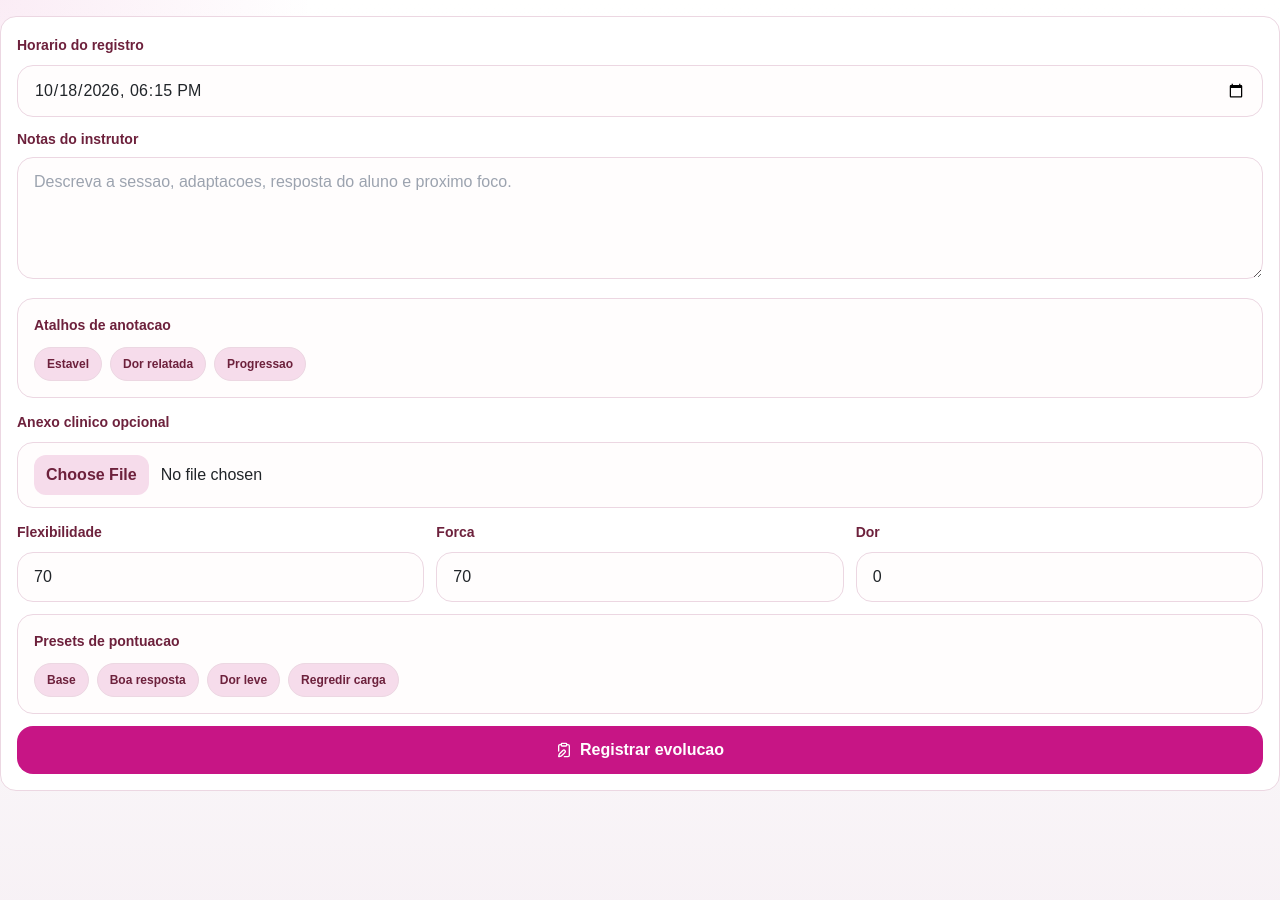
Test: ProgressEntryForm › ignora toque duplo enquanto o envio principal esta em andamento
This screenshot has width=1280, height=900.
Replace the text in the text box with placeholder "Descreva a sessao, adaptacoes, resposta do aluno e proximo foco." with "Sessao com envio lento." at (640, 218), box x1=17 y1=157 x2=1263 y2=279
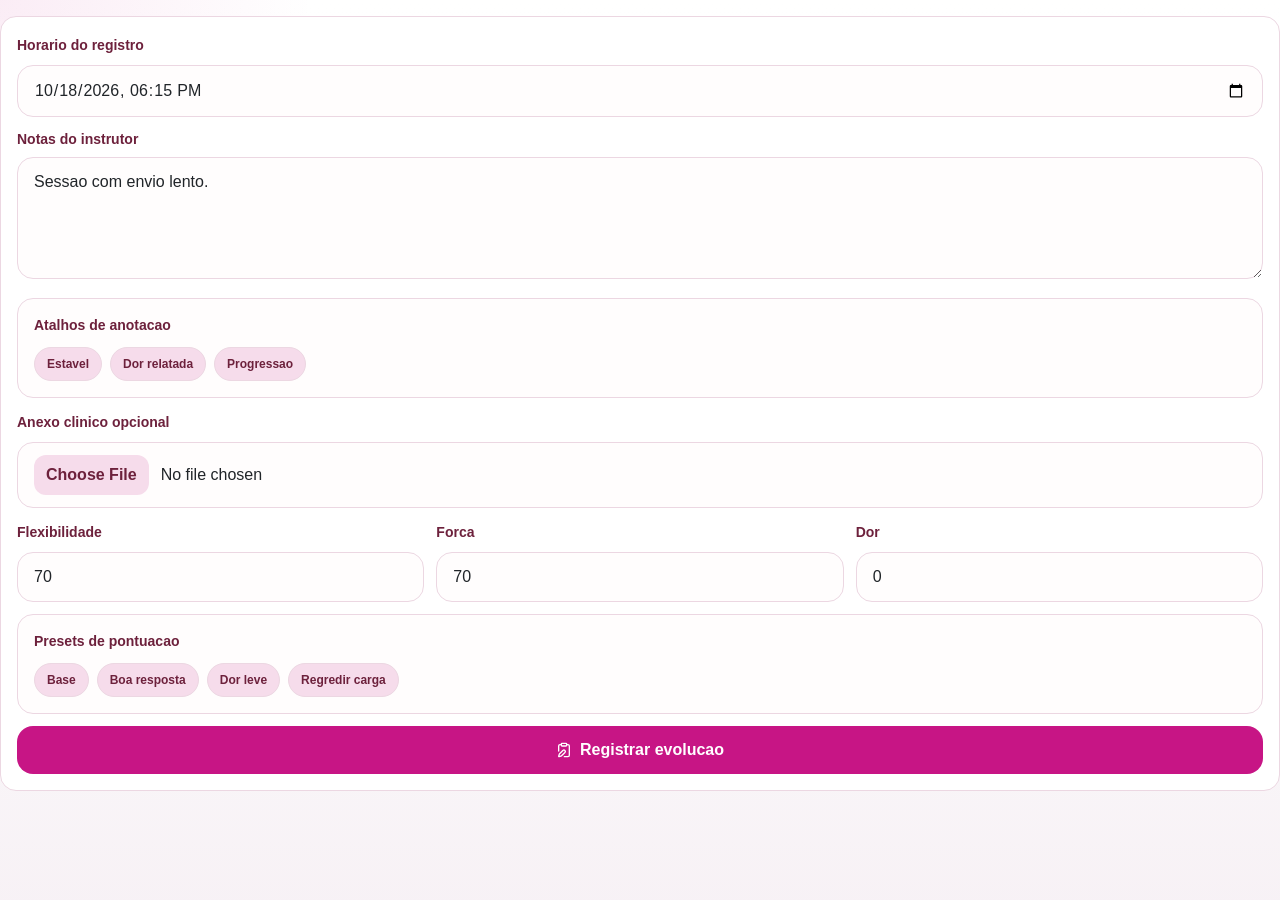
Click the button "Registrar evolucao" at (640, 750), box x1=17 y1=726 x2=1263 y2=774
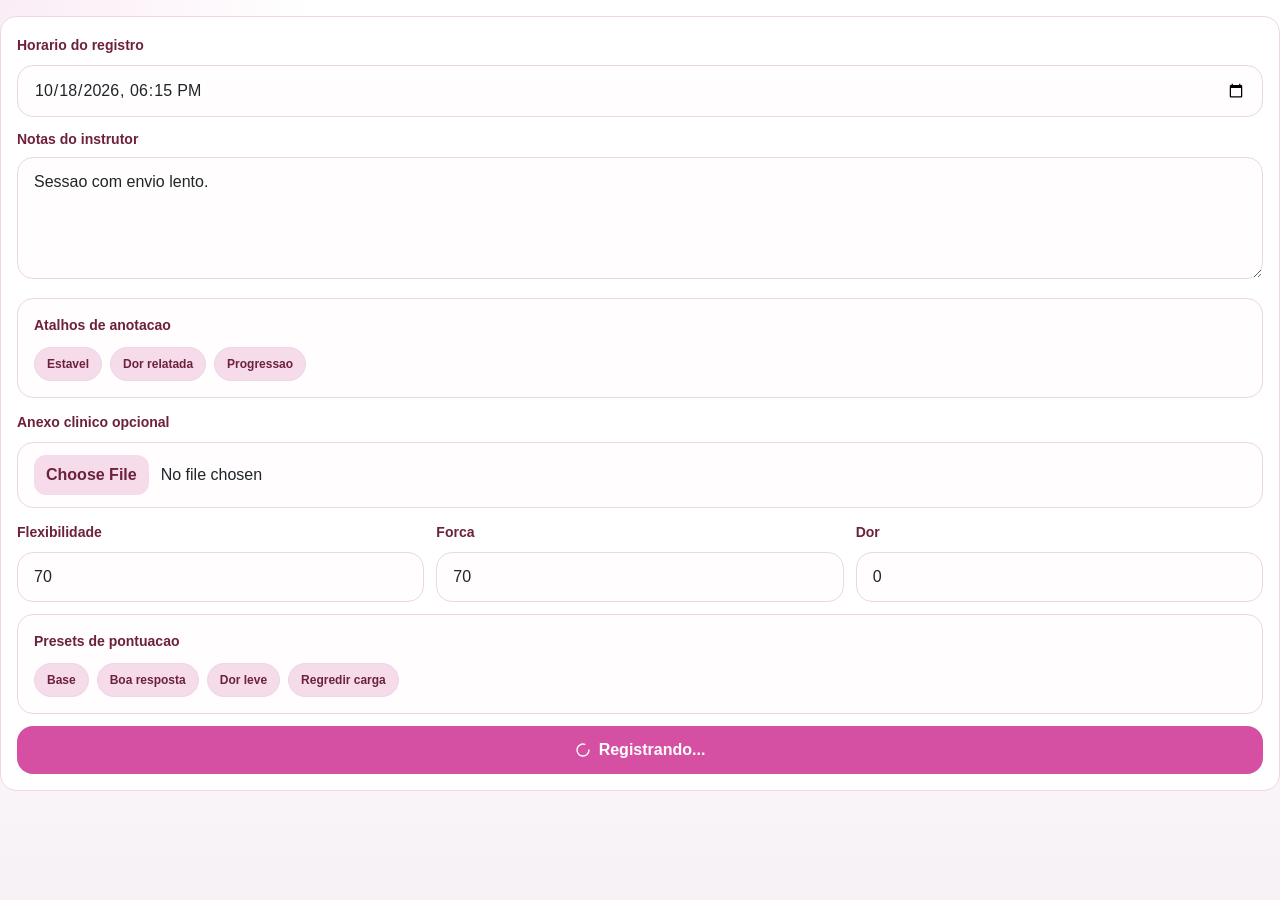
Click the button "Registrando..." at (640, 750), box x1=17 y1=726 x2=1263 y2=774
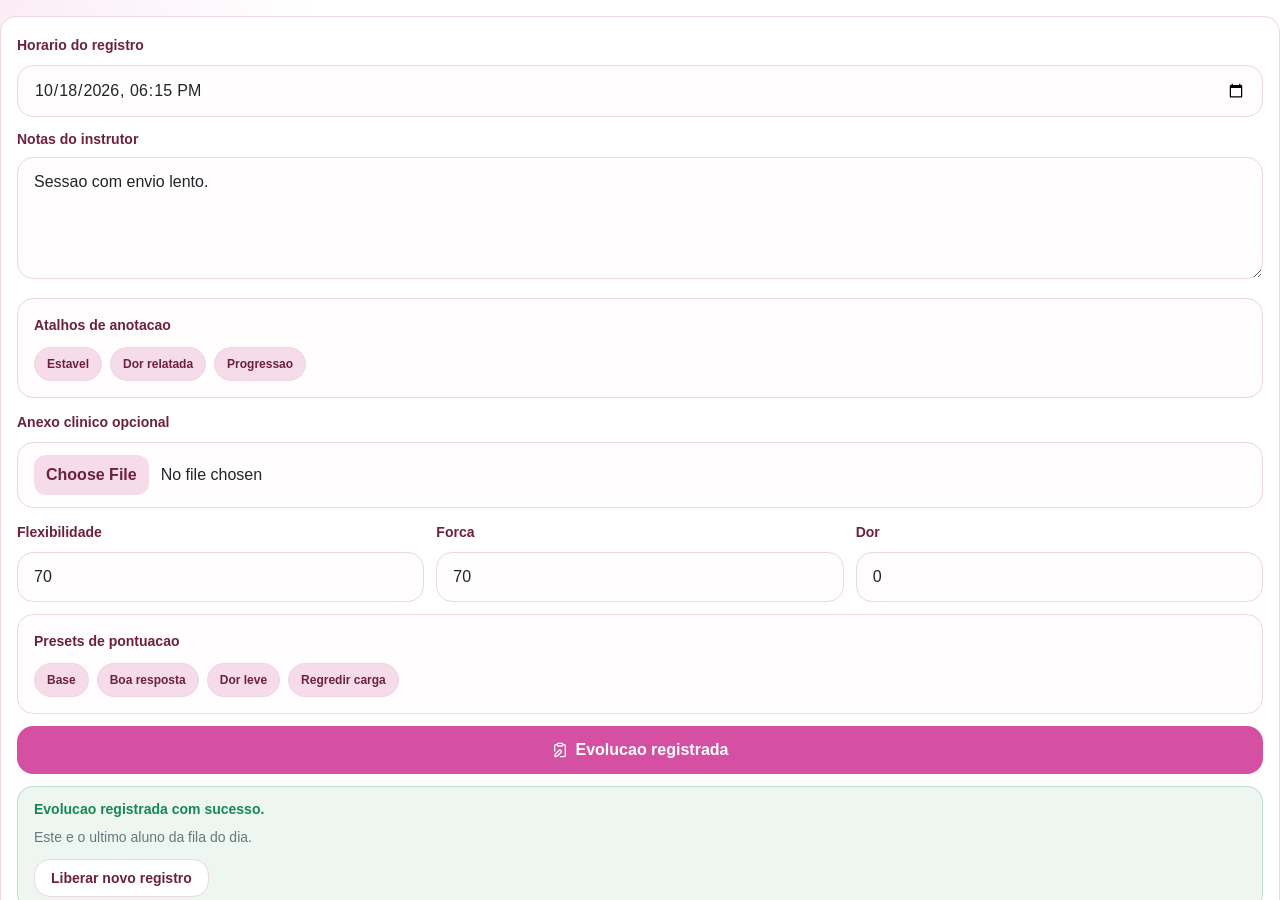
Now the text "Evolucao registrada com sucesso." is shown, box x1=34 y1=801 x2=264 y2=817
